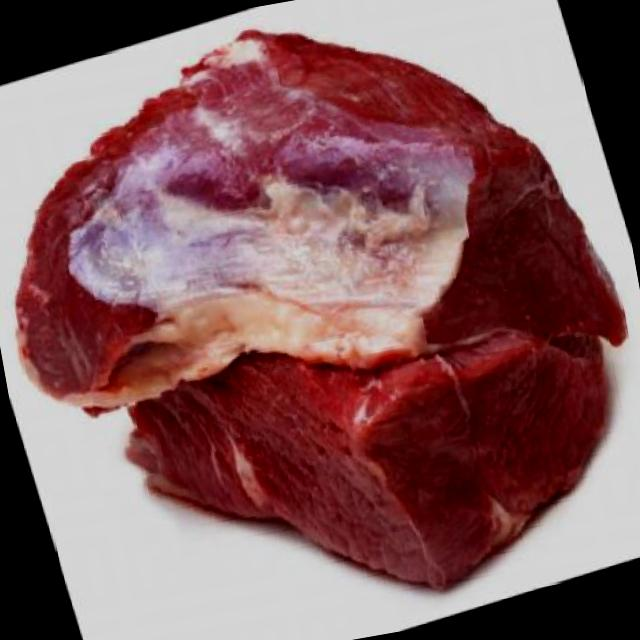beef: (0, 0, 640, 437), (99, 248, 640, 640)
